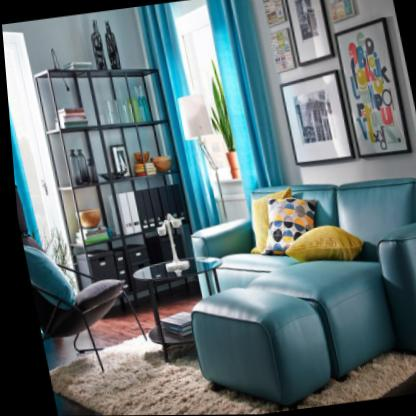Chair: (11, 167, 146, 377)
Sofa: (157, 162, 416, 415)
